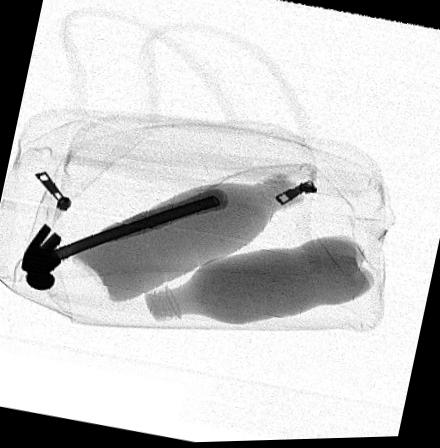Hammer: (20, 190, 228, 291)
